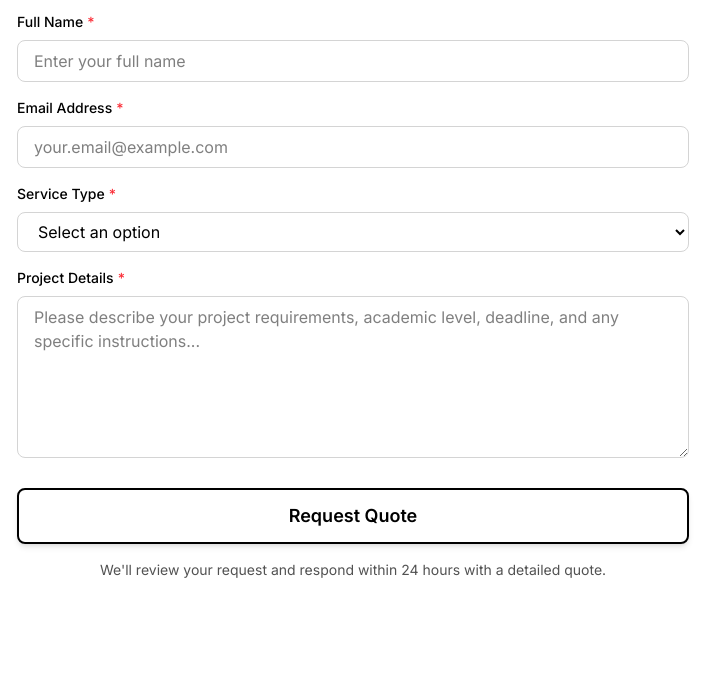
Test: QuoteForm Component › displays success message after successful submission
The width and height of the screenshot is (707, 677).
Note: Fill in form
Type "John Doe" into the field labelled "Full Name*".
click(353, 61); type("John Doe")  # box [17,40,689,82]
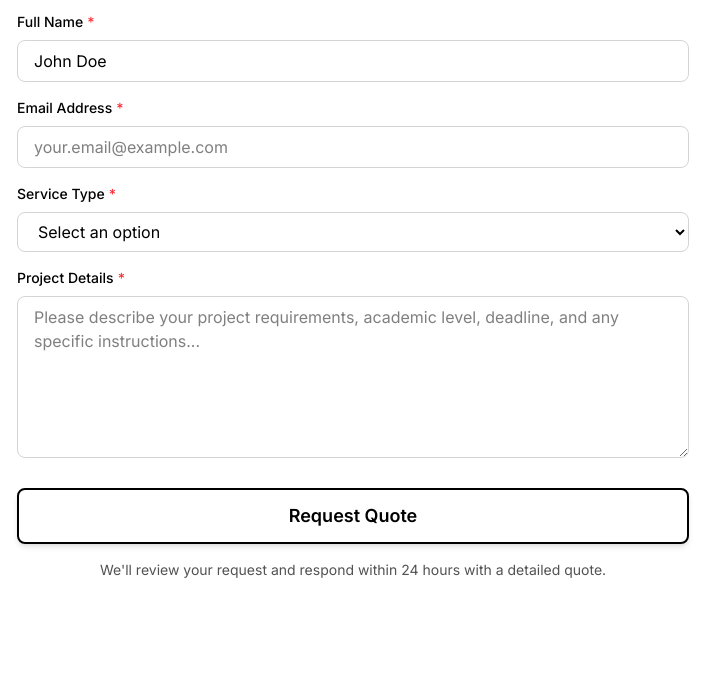
Type "john@example.com" into the field labelled "Email Address*".
click(353, 147); type("john@example.com")  # box [17,126,689,168]
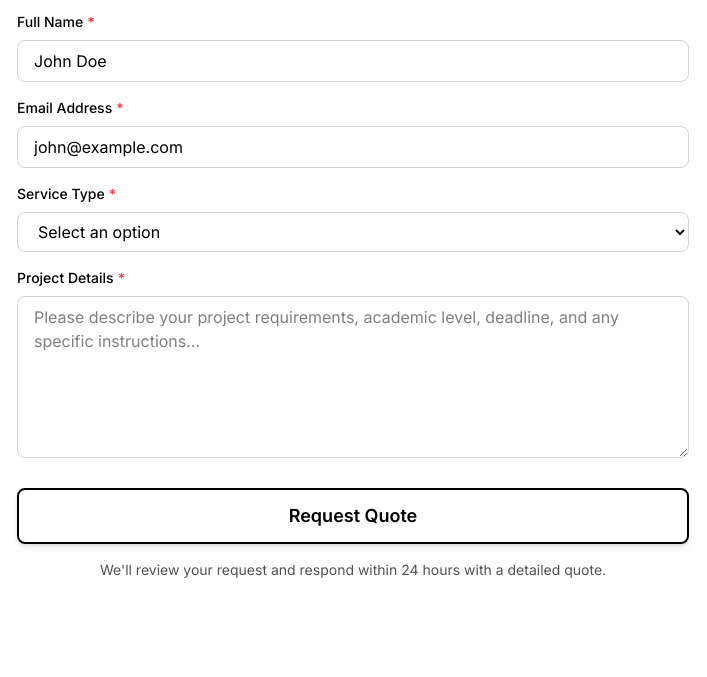
Select "Assignment Writing" in the dropdown labelled "Service Type*" at (353, 232), box [17,212,689,252]
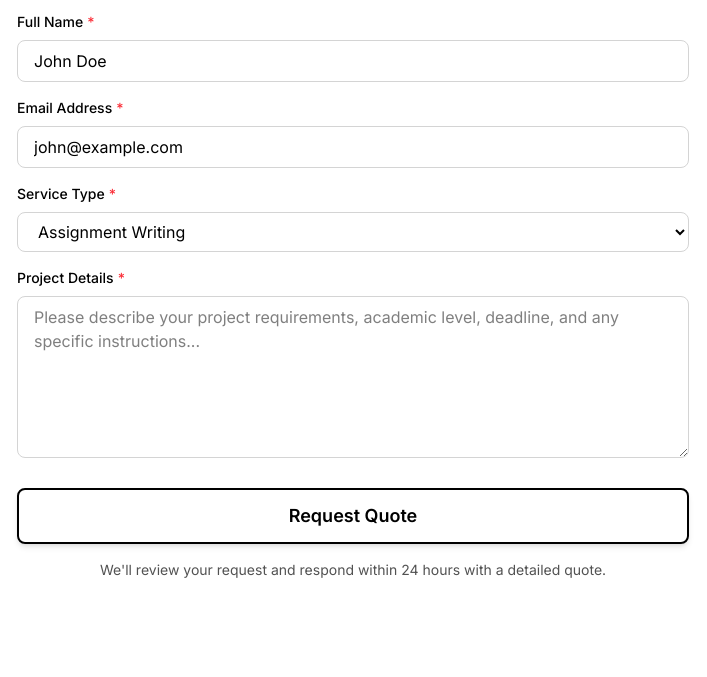
Replace the text in the text box labelled "Project Details*" with "I need help with my assignment on computer science" at (353, 377), box [17,296,689,458]
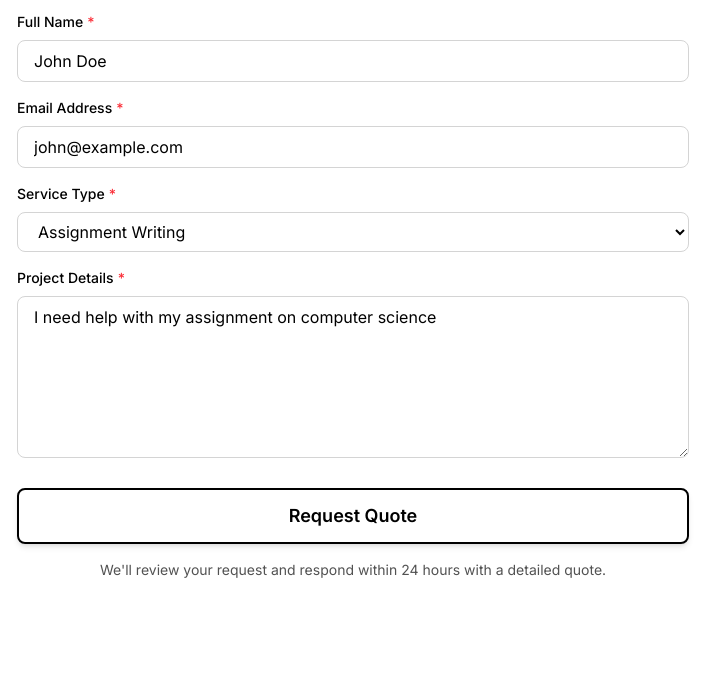
Note: Submit form
Click the button "Request Quote".
click(353, 516)  # box [17,488,689,544]
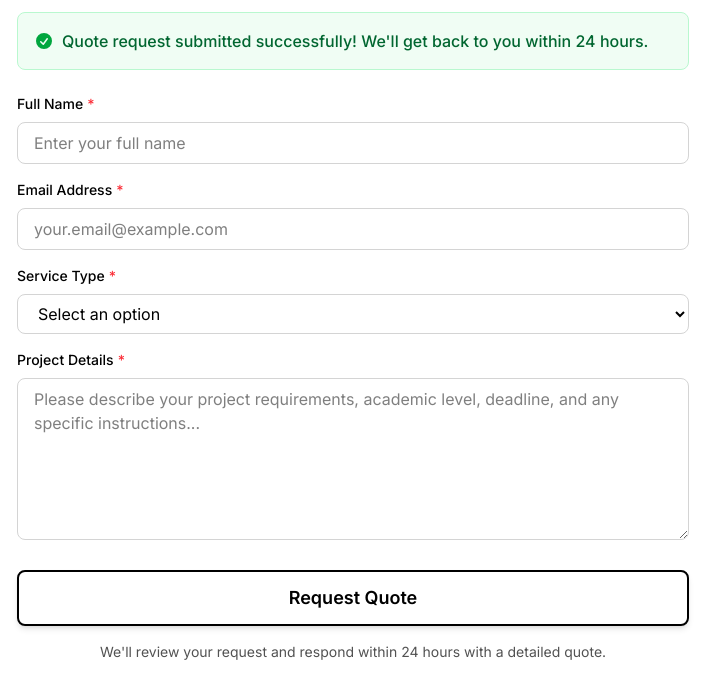
Expected: the text "Quote request submitted successfully" is shown, [62,31,648,51]
